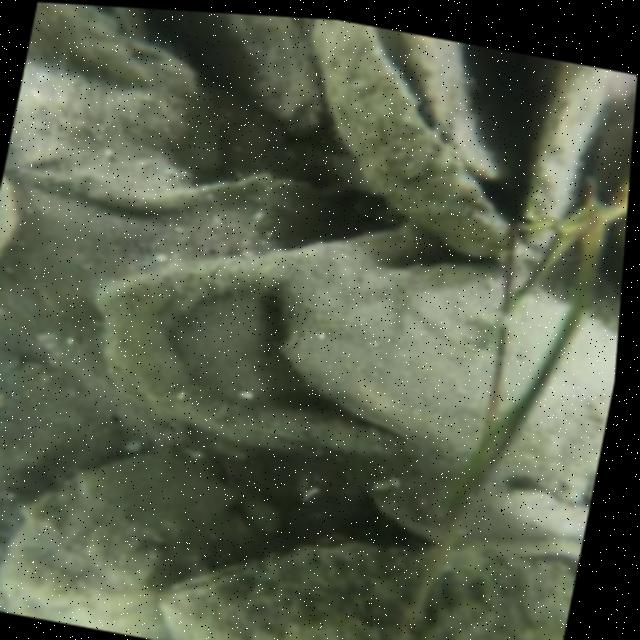Oyster-Closed: (500, 480, 588, 538)
Oyster-Indeterminate: (94, 220, 485, 461), (279, 250, 618, 500), (144, 541, 576, 640), (3, 3, 202, 175), (0, 454, 223, 605), (164, 10, 323, 131), (398, 32, 518, 178), (598, 114, 634, 202)
Oyster-Open: (312, 19, 615, 271)
